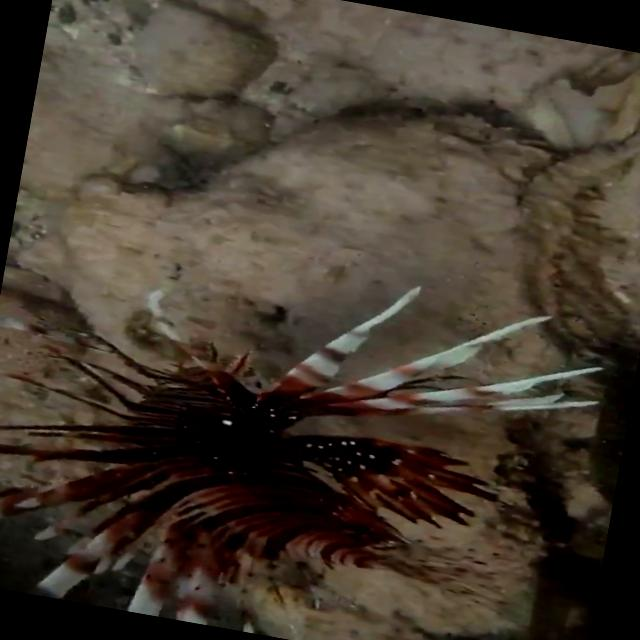Aslan Baligi: (0, 211, 617, 640)
